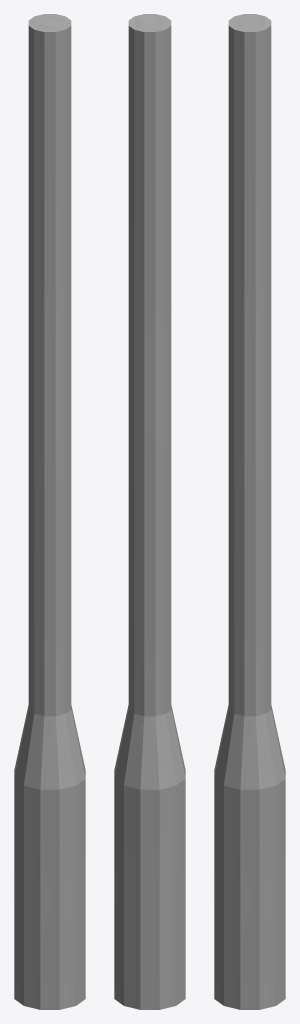
The model's file is british_steel_light_pole.obj.
3 views of the same model, side by side, from view 1: azimuth 30°, elevation 25°; view 2: azimuth 150°, elevation 25°; view 3: azimuth 330°, elevation 25° (orthographic).
Visible parts, largest first — view 1: cylinder, cone; view 2: cylinder, cone; view 3: cylinder, cone.
Boxes of the visible parts, box(x1,y1,x2,y2) form: cylinder: box(14, 14, 85, 1009); cone: box(14, 705, 85, 789); cylinder: box(114, 14, 185, 1009); cone: box(114, 705, 185, 789); cylinder: box(214, 14, 285, 1009); cone: box(214, 705, 285, 789).
Size of the model in its own units: 0.3125 by 4.69 by 0.3125.
1 material, 1 textured.
